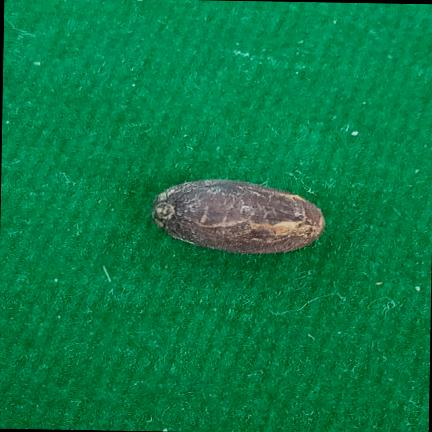husk: (151, 179, 325, 254)
